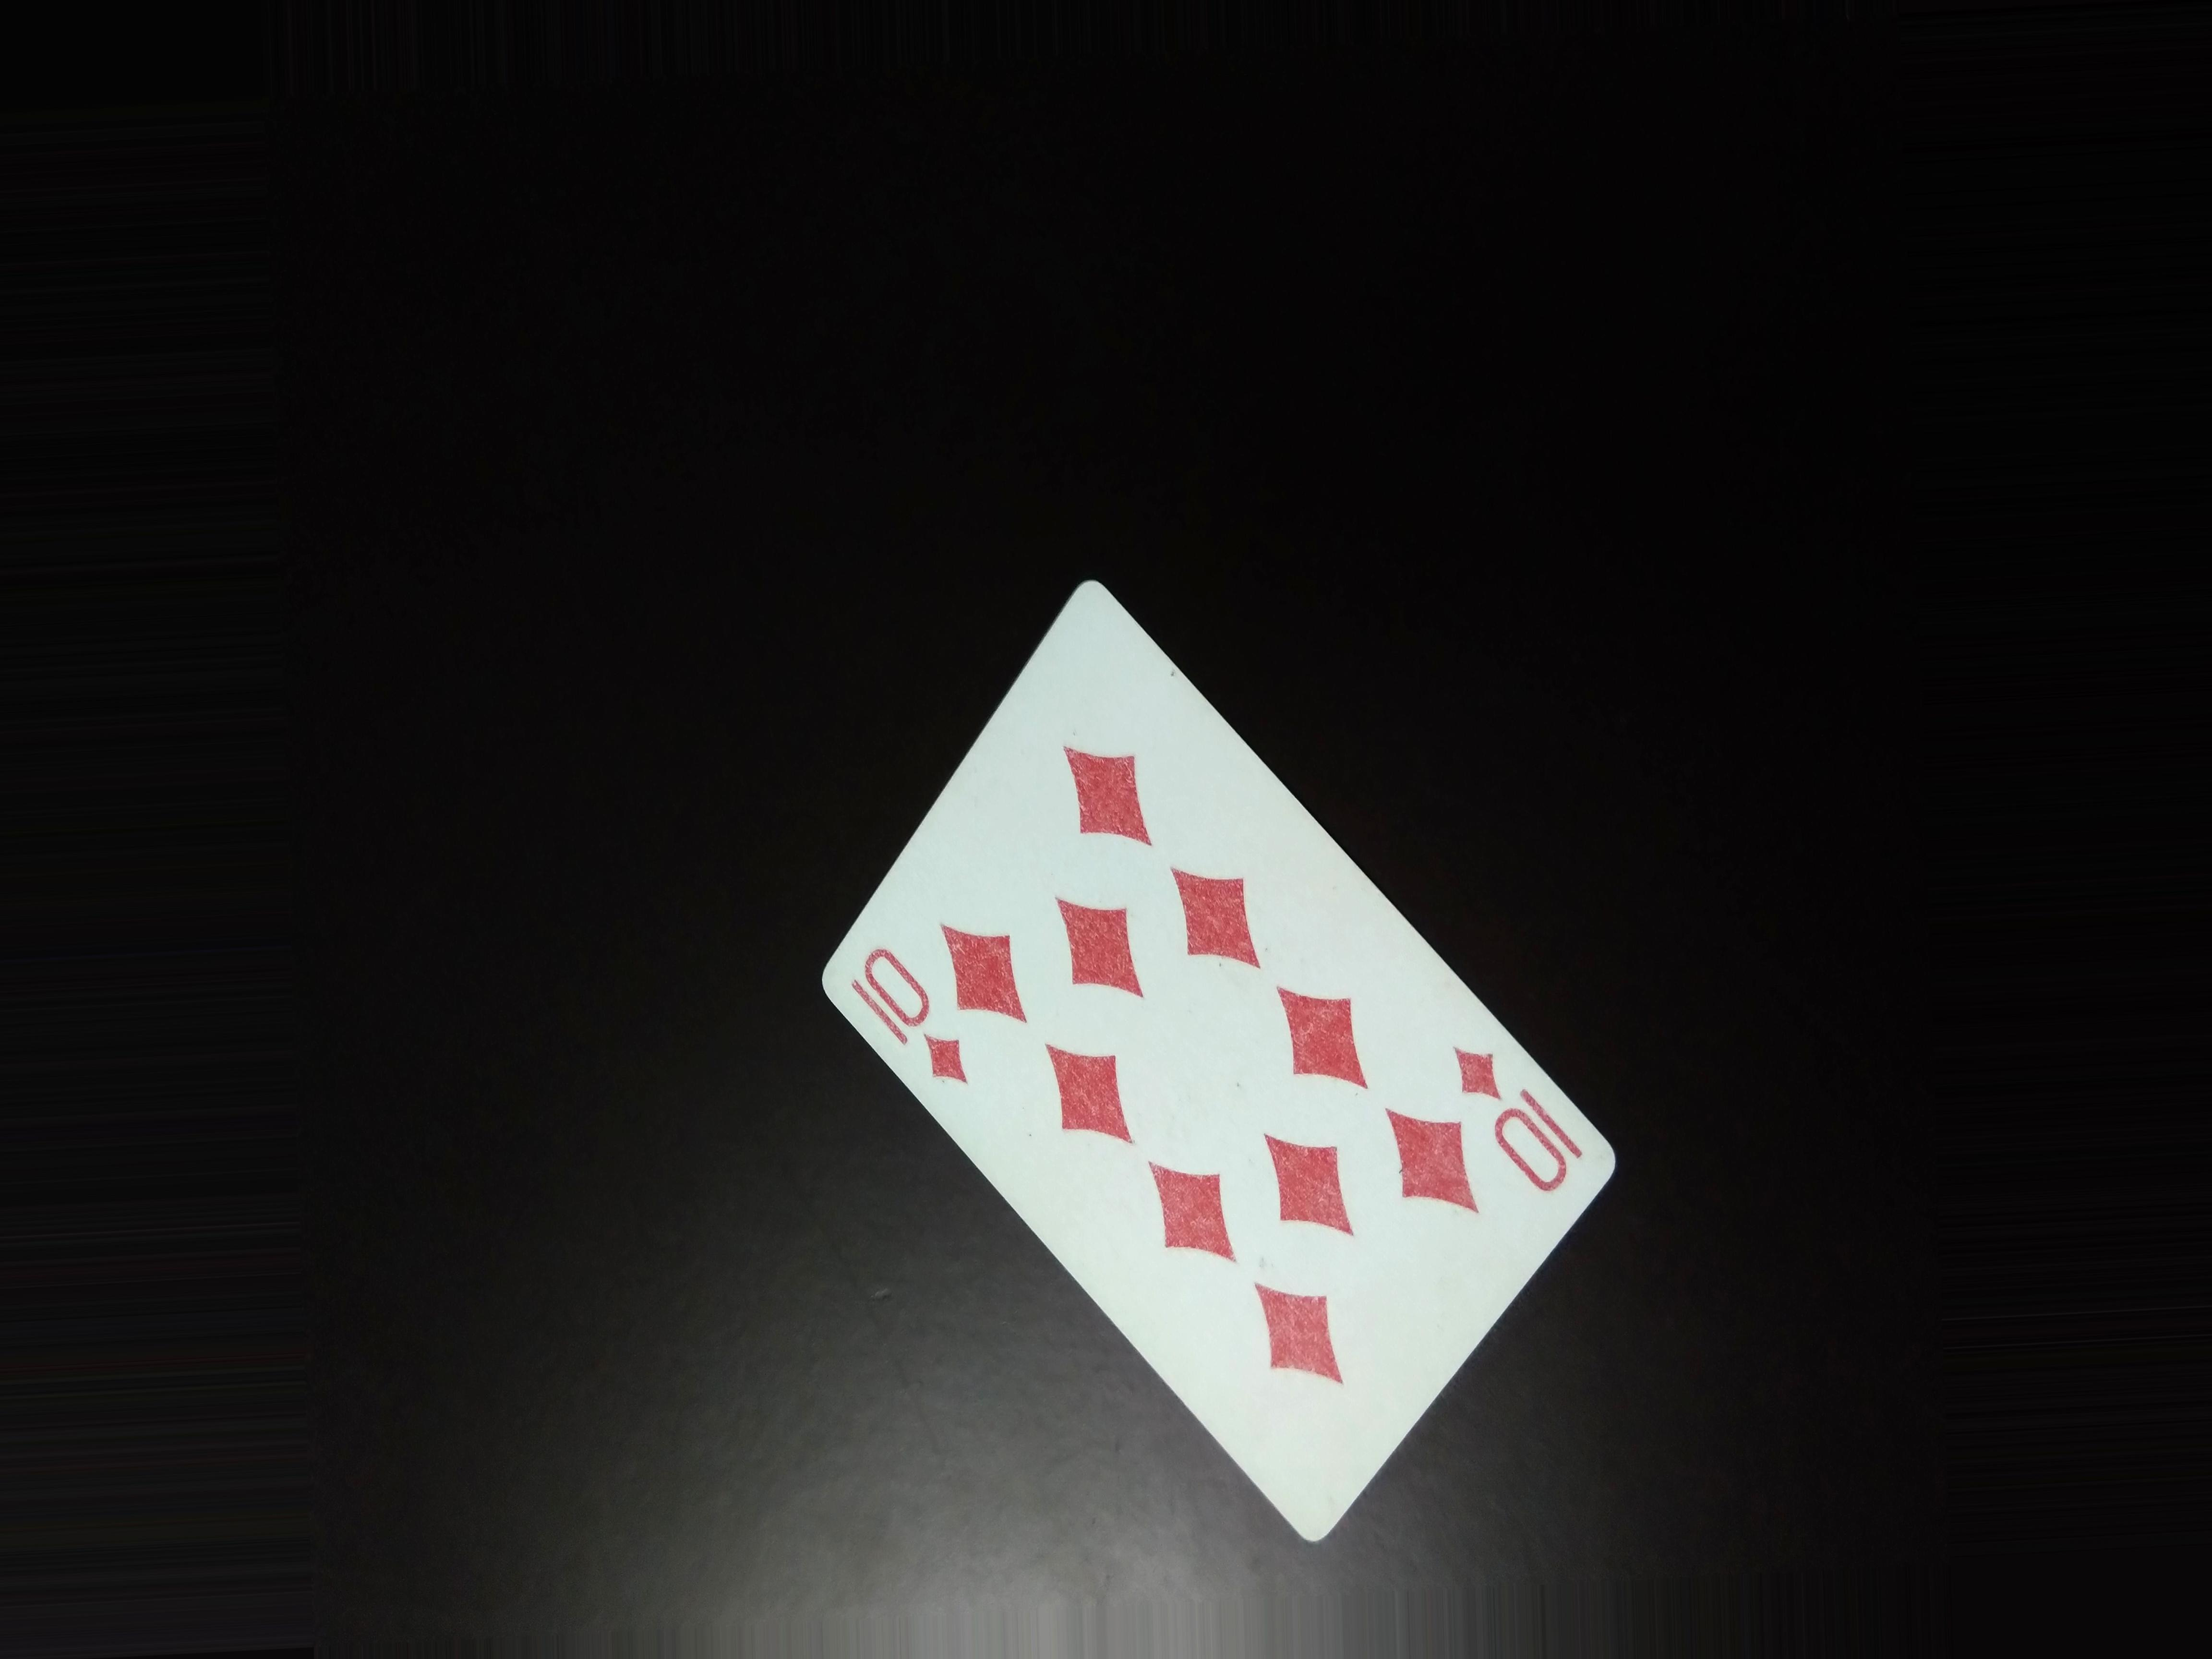10D: (848, 938, 975, 1096)
